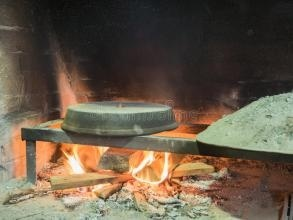fire: (129, 148, 171, 182), (62, 141, 86, 174)
